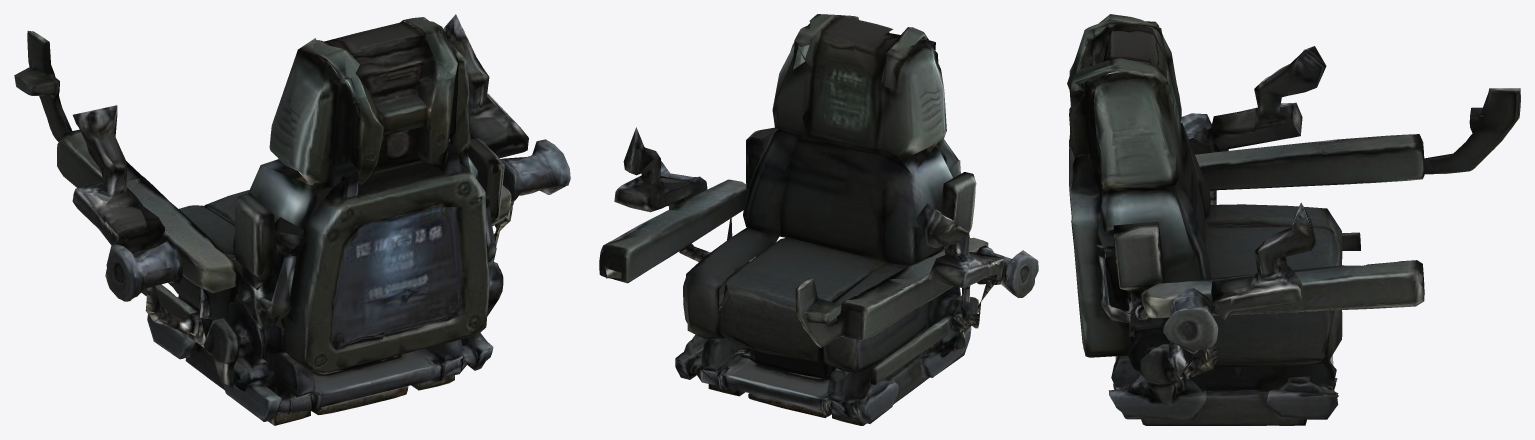
The model's file is iv-04-seat.glb.
3 renders of one model, left to right at view 1: azimuth 30°, elevation 25°; view 2: azimuth 150°, elevation 25°; view 3: azimuth 270°, elevation 25°, orthographic. The views are drawn at different scales.
Parts seen in each view (by area): view 1: tripo_part_1; view 2: tripo_part_1; view 3: tripo_part_1.
Boxes of the visible parts, x1=… form: tripo_part_1: x1=14, y1=14, x2=570, y2=425; tripo_part_1: x1=599, y1=14, x2=1038, y2=425; tripo_part_1: x1=1067, y1=14, x2=1520, y2=425.
Size of the model in its own units: 0.8137 by 0.6752 by 0.7878.
Materials: 1 (1 with a texture image).
